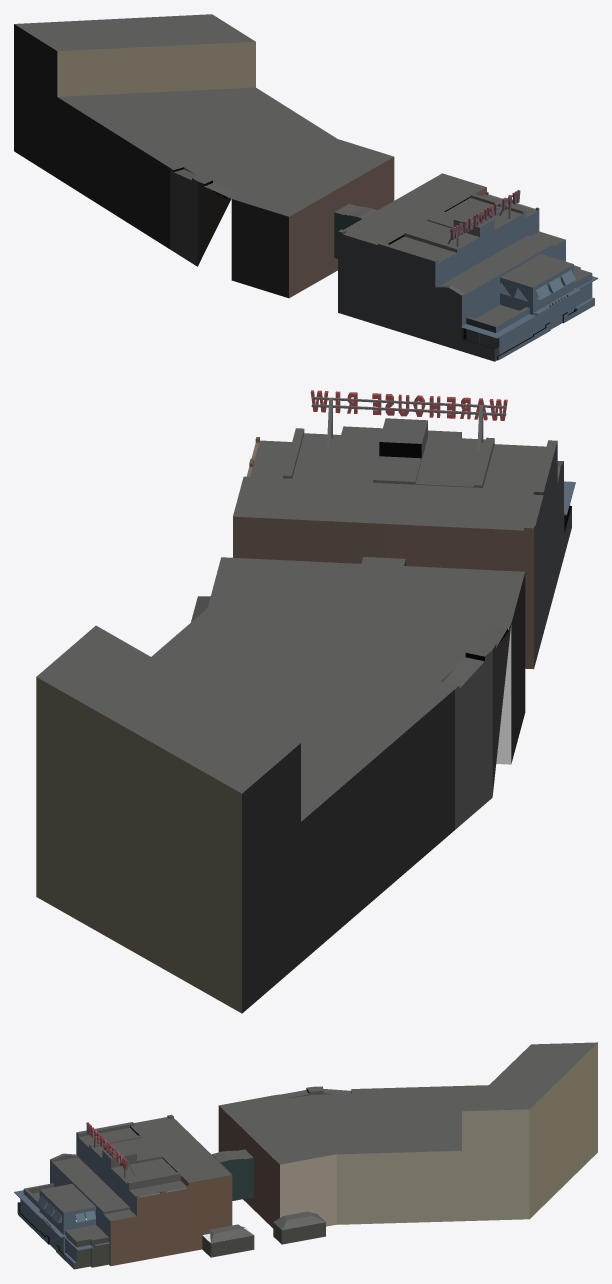
File: warehouse-row.glb
The picture shows the model from 3 angles, top to bottom: view 1: azimuth 30°, elevation 25°; view 2: azimuth 150°, elevation 25°; view 3: azimuth 270°, elevation 25°; orthographic projection. The views are drawn at different scales.
Visible parts, largest first — view 1: LOD0; view 2: LOD0; view 3: LOD0.
Boxes of the visible parts, x1,y1,x2,y2 form: LOD0: [14, 14, 597, 361]; LOD0: [36, 390, 575, 1013]; LOD0: [14, 1042, 597, 1269].
Size of what is drawn, in the model's own units: 84.04 by 36.16 by 174.
2 materials, 2 textured.
